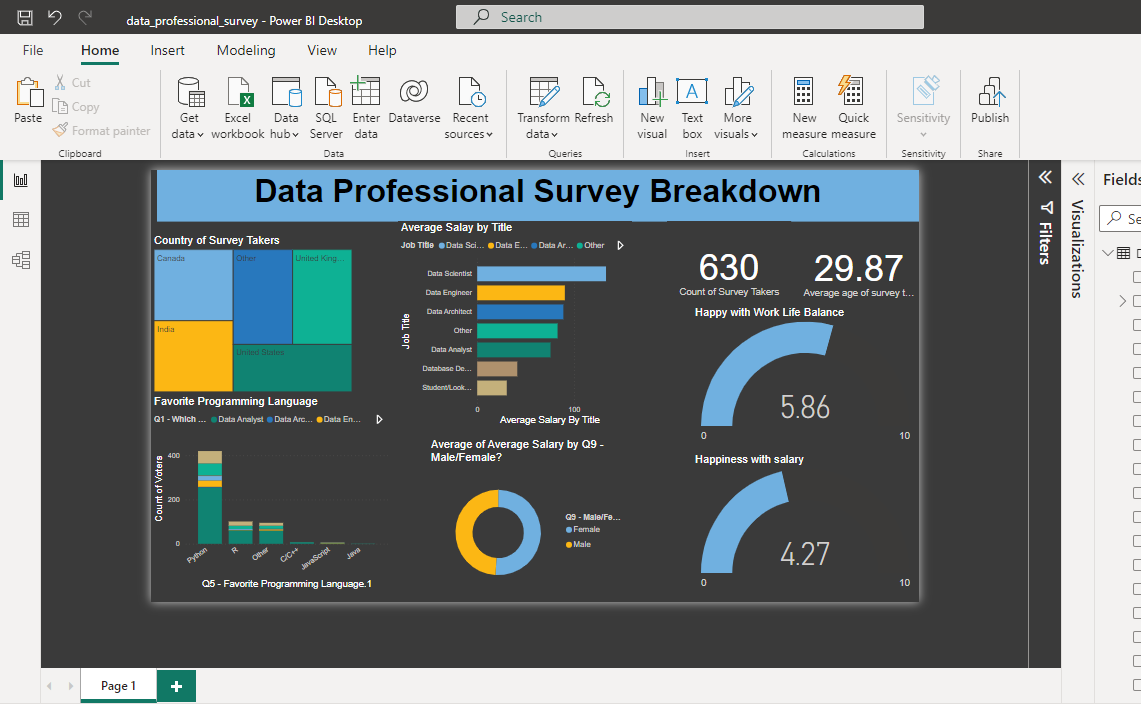

The page's visual inventory and layout, read from the dashboard file:
{"tool":"powerbi","page":{"name":"Page 1","canvas":[1280,720],"ordinal":0},"visuals":[{"type":"textbox","box":[10.1,0,1269.9,85.7],"z":0},{"type":"card","fields":{"Values":["CountNonNull(Data Professional Survey.Unique ID)"]},"box":[860,85,206.7,163.3],"z":1000},{"type":"card","fields":{"Values":["Avg(Data Professional Survey.Q10 - Current Age)"]},"box":[1080,91.7,200,150],"z":2000},{"type":"barChart","title":"Average Salay by Title","fields":{"Y":["Avg(Data Professional Survey.Average Salary)"],"Series":["Data Professional Survey.Q1 - Which Title Best Fits your Current Role?.1"],"Category":["Data Professional Survey.Q1 - Which Title Best Fits your Current Role?.1"]},"box":[411.7,85,390,345],"z":3000},{"type":"columnChart","title":"Favorite Programming Language","fields":{"Category":["Data Professional Survey.Q5 - Favorite Programming Language.1"],"Y":["CountNonNull(Data Professional Survey.Unique ID)"],"Series":["Data Professional Survey.Q1 - Which Title Best Fits your Current Role?.1"]},"box":[0,375,400,328.3],"z":4000},{"type":"treemap","title":"Country of Survey Takers","fields":{"Group":["Data Professional Survey.Q11 - Which Country do you live in?.1"],"Values":["Count(Data Professional Survey.Q11 - Which Country do you live in?.1)"]},"box":[0,106.7,340,268.3],"z":5000},{"type":"gauge","title":"Happy with Work Life Balance","fields":{"Y":["Avg(Data Professional Survey.Q6 - How Happy are you in your Current Position with the following? (Coworkers))"],"MinValue":["Min(Data Professional Survey.Q6 - How Happy are you in your Current Position with the following? (Learning New Things))"],"MaxValue":["Max(Data Professional Survey.Q6 - How Happy are you in your Current Position with the following? (Learning New Things))1"]},"box":[902,226,378,232],"z":6000},{"type":"gauge","title":"Happiness with salary","fields":{"Y":["Avg(Data Professional Survey.Q6 - How Happy are you in your Current Position with the following? (Salary))"],"MinValue":["Min(Data Professional Survey.Q6 - How Happy are you in your Current Position with the following? (Salary))"],"MaxValue":["Max(Data Professional Survey.Q6 - How Happy are you in your Current Position with the following? (Salary))"]},"box":[902,472,378,232],"z":7000},{"type":"donutChart","fields":{"Category":["Data Professional Survey.Q9 - Male/Female?"],"Y":["Avg(Data Professional Survey.Average Salary)"]},"box":[461.7,446.7,340,273.3],"z":8000}]}

Visuals, with their boxes on the page's 1280x720 design canvas (x1, y1, x2, y2). These are canvas units, not pixel positions in the 1141x704 screenshot, which may show the page scaled, cropped or inside an application window:
textbox: left=10, top=0, right=1280, bottom=86
card - CountNonNull(Data Professional Survey.Unique ID): left=860, top=85, right=1067, bottom=248
card - Avg(Data Professional Survey.Q10 - Current Age): left=1080, top=92, right=1280, bottom=242
"Average Salay by Title" barChart: left=412, top=85, right=802, bottom=430
"Favorite Programming Language" columnChart: left=0, top=375, right=400, bottom=703
"Country of Survey Takers" treemap: left=0, top=107, right=340, bottom=375
"Happy with Work Life Balance" gauge: left=902, top=226, right=1280, bottom=458
"Happiness with salary" gauge: left=902, top=472, right=1280, bottom=704
donutChart - Data Professional Survey.Q9 - Male/Female? x Avg(Data Professional Survey.Average Salary): left=462, top=447, right=802, bottom=720
